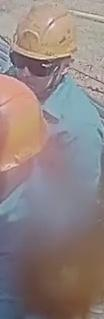goggles: (8, 51, 56, 77)
helmet: (0, 72, 49, 173), (9, 1, 77, 61)
vest: (0, 186, 103, 318), (42, 74, 104, 181)
